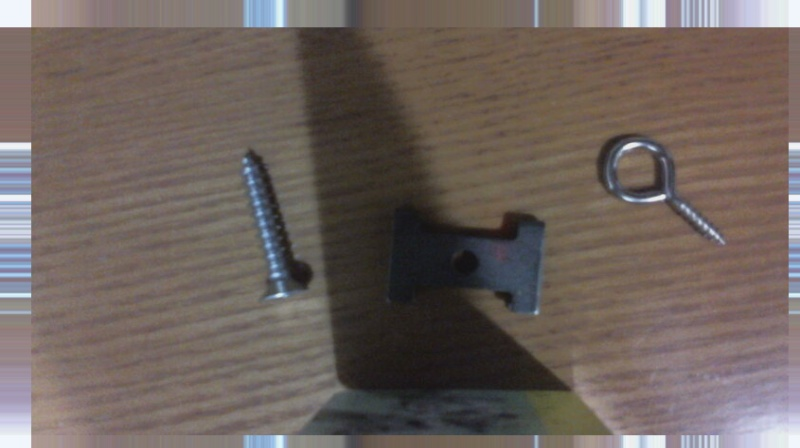O001: (596, 134, 731, 251)
O002: (385, 203, 548, 318)
S001: (236, 143, 317, 310)
